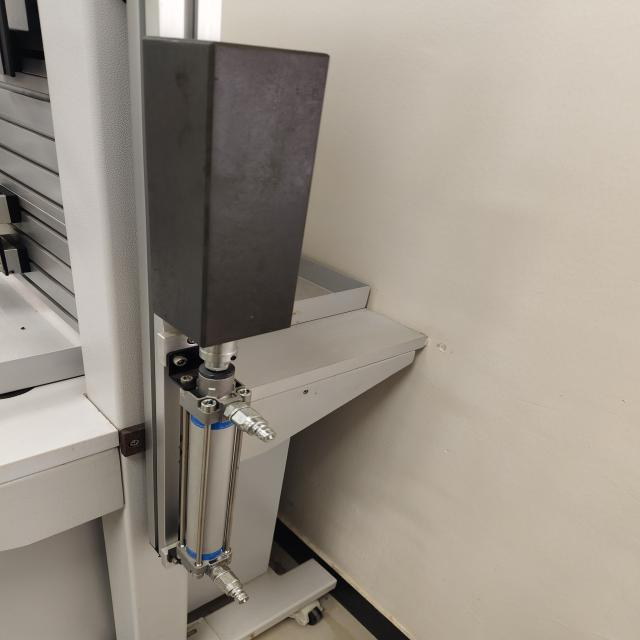load: (82, 18, 354, 617)
